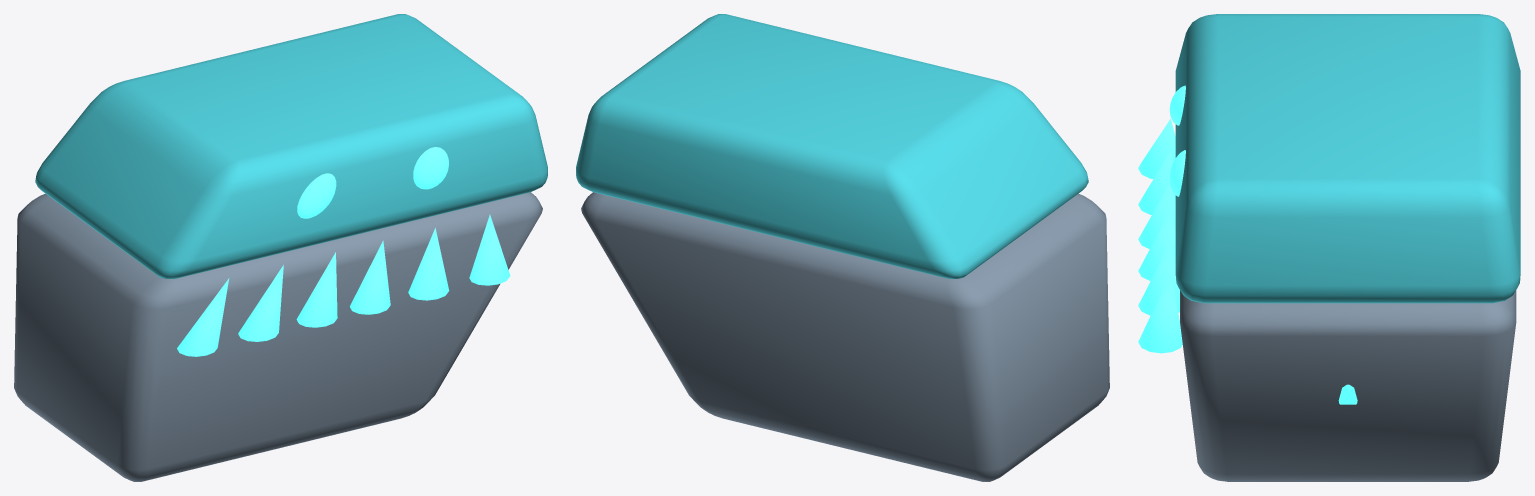
Rendered from mimic_v7.glb.
The picture shows the model from 3 angles, left to right: view 1: azimuth 30°, elevation 25°; view 2: azimuth 150°, elevation 25°; view 3: azimuth 270°, elevation 25°; orthographic projection. The views are drawn at different scales.
Parts seen in each view (by area): view 1: CHEST_PRIMARY, LID_ACCENT, TOOTH_EMISSIVE, TOOTH_EMISSIVE.001, TOOTH_EMISSIVE.002, TOOTH_EMISSIVE.003, TOOTH_EMISSIVE.004, TOOTH_EMISSIVE.005, EYE_EMISSIVE, EYE_EMISSIVE.001; view 2: CHEST_PRIMARY, LID_ACCENT; view 3: LID_ACCENT, CHEST_PRIMARY, TOOTH_EMISSIVE.005, TOOTH_EMISSIVE.004, TOOTH_EMISSIVE.003, TOOTH_EMISSIVE, TOOTH_EMISSIVE.002, TOOTH_EMISSIVE.001, EYE_EMISSIVE.001, EYE_EMISSIVE.
Part boxes in pixels (box(x1,y1,x2,y2)): CHEST_PRIMARY: box(14, 192, 542, 481); LID_ACCENT: box(35, 14, 547, 278); TOOTH_EMISSIVE: box(177, 278, 229, 356); TOOTH_EMISSIVE.001: box(238, 264, 283, 341); TOOTH_EMISSIVE.002: box(296, 252, 337, 327); TOOTH_EMISSIVE.003: box(350, 240, 390, 314); TOOTH_EMISSIVE.004: box(408, 227, 449, 300); TOOTH_EMISSIVE.005: box(469, 214, 510, 285); EYE_EMISSIVE: box(297, 173, 336, 218); EYE_EMISSIVE.001: box(413, 147, 448, 189); CHEST_PRIMARY: box(581, 192, 1109, 481); LID_ACCENT: box(576, 14, 1088, 278); LID_ACCENT: box(1175, 14, 1520, 303); CHEST_PRIMARY: box(1180, 290, 1516, 481); TOOTH_EMISSIVE.005: box(1138, 273, 1182, 353); TOOTH_EMISSIVE.004: box(1138, 241, 1179, 315); TOOTH_EMISSIVE.003: box(1138, 210, 1175, 280); TOOTH_EMISSIVE: box(1138, 118, 1175, 178); TOOTH_EMISSIVE.002: box(1138, 184, 1175, 249); TOOTH_EMISSIVE.001: box(1138, 151, 1175, 214); EYE_EMISSIVE.001: box(1169, 150, 1185, 196); EYE_EMISSIVE: box(1169, 85, 1185, 125).
Size of the model in its own units: 1.96 by 1.34 by 1.28.
